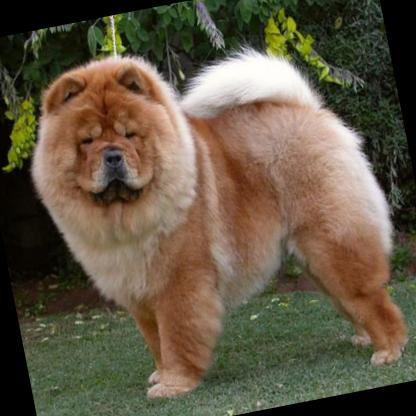chow: (8, 3, 416, 416)
